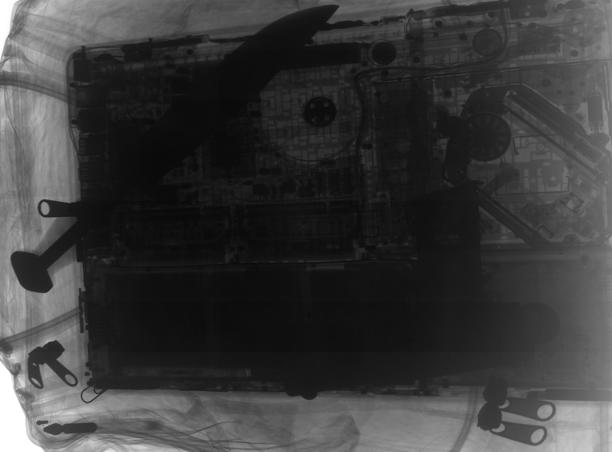Handgun: (282, 177, 540, 408)
Knife: (8, 1, 340, 296)
